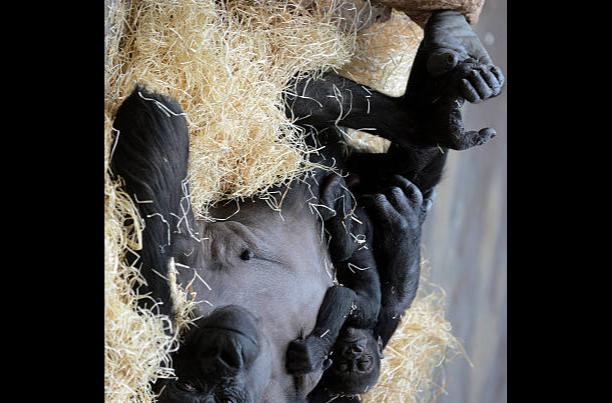gorille_Autres: (128, 24, 487, 403)
